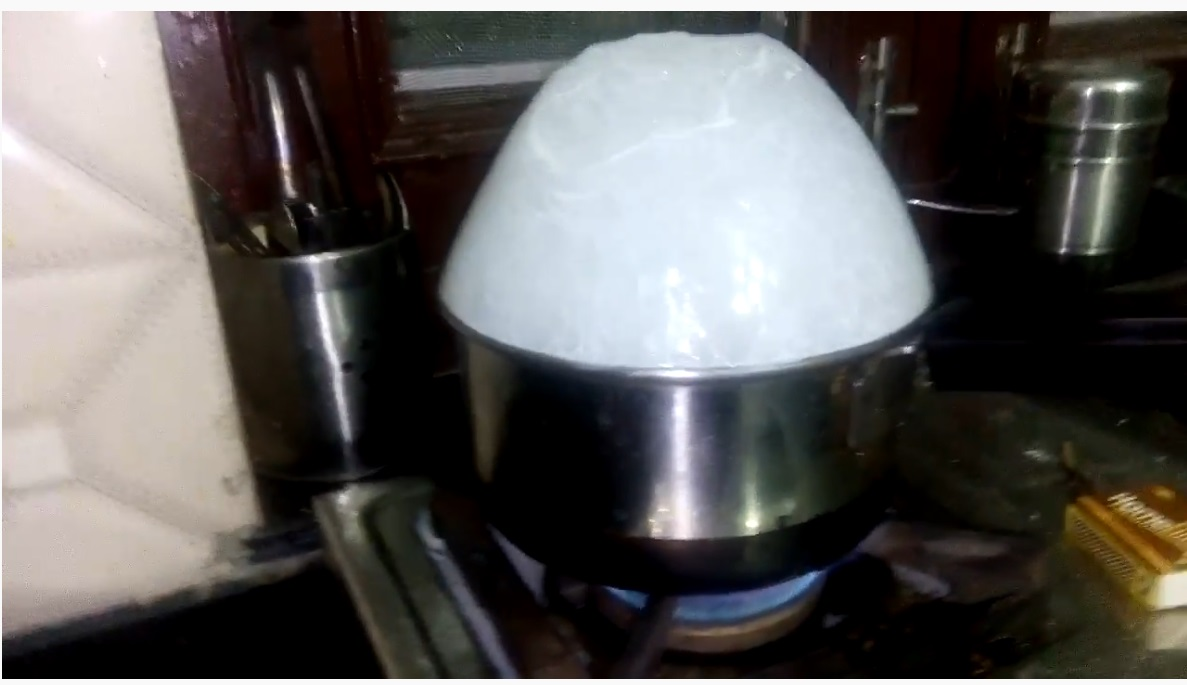Boiled: (424, 23, 903, 548)
